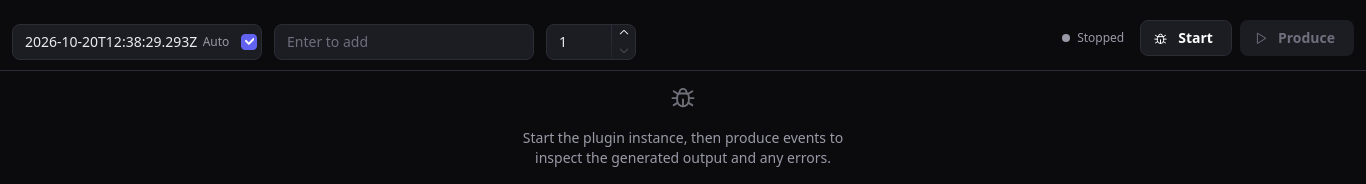
Test: DebuggerTab › reports the instance as running once it started
Click the button "Start" at (1186,38), box x1=1140 y1=20 x2=1232 y2=56
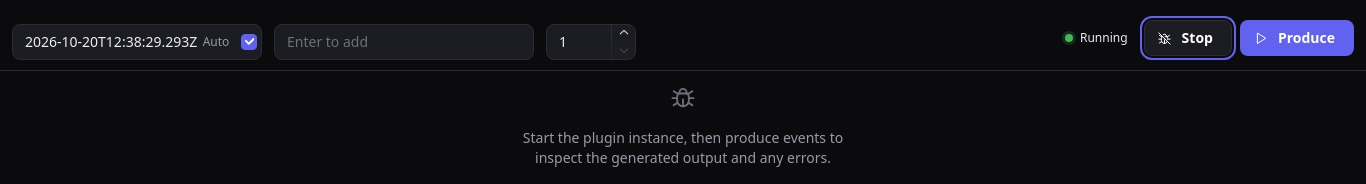
Result: the text "Running" is shown at x1=1080 y1=30 x2=1128 y2=46
Result: the button "Produce" is enabled at x1=1240 y1=20 x2=1354 y2=56
